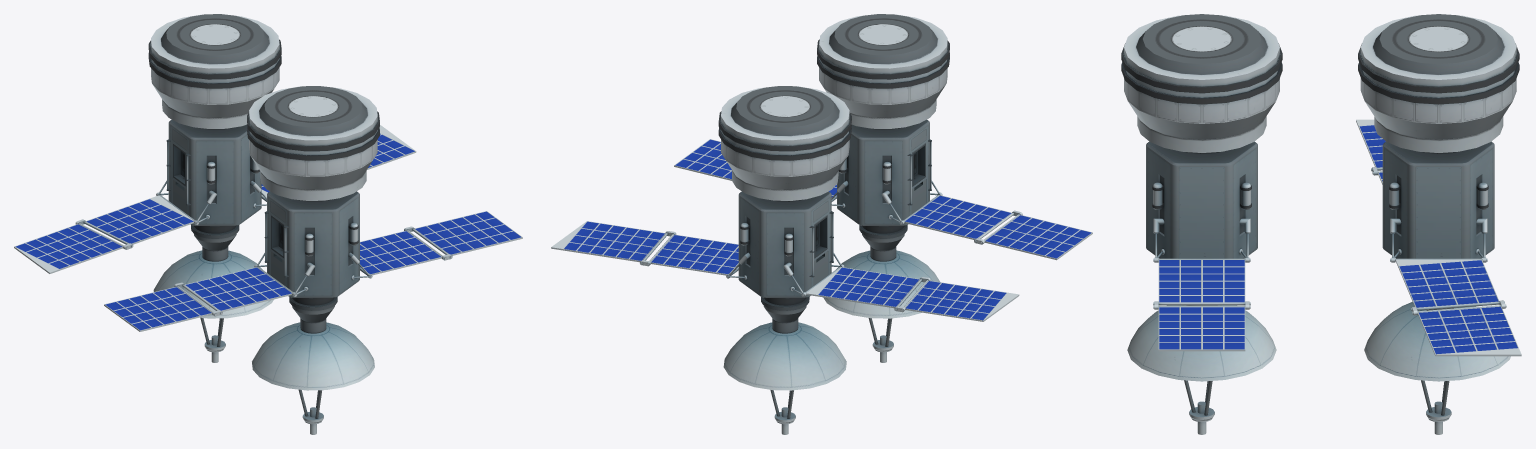
Rendered from satellite-demo01.glb.
3 renders of one model, left to right at view 1: azimuth 30°, elevation 25°; view 2: azimuth 150°, elevation 25°; view 3: azimuth 270°, elevation 25°, orthographic. The views are drawn at different scales.
Visible parts, largest first — view 1: Satellite_Base, Satellite_Small_Base; view 2: Satellite_Small_Base, Satellite_Base; view 3: Satellite_Small_Base, Satellite_Base.
Part boxes in pixels (<box>): Satellite_Base: <box>104,86,522,434</box>; Satellite_Small_Base: <box>14,14,416,362</box>; Satellite_Small_Base: <box>551,86,1019,434</box>; Satellite_Base: <box>674,14,1092,362</box>; Satellite_Small_Base: <box>1356,14,1521,434</box>; Satellite_Base: <box>1121,14,1282,434</box>.
Size of the model in its own units: 13.28 by 10.38 by 9.56.
Materials: 2 (2 with a texture image).
